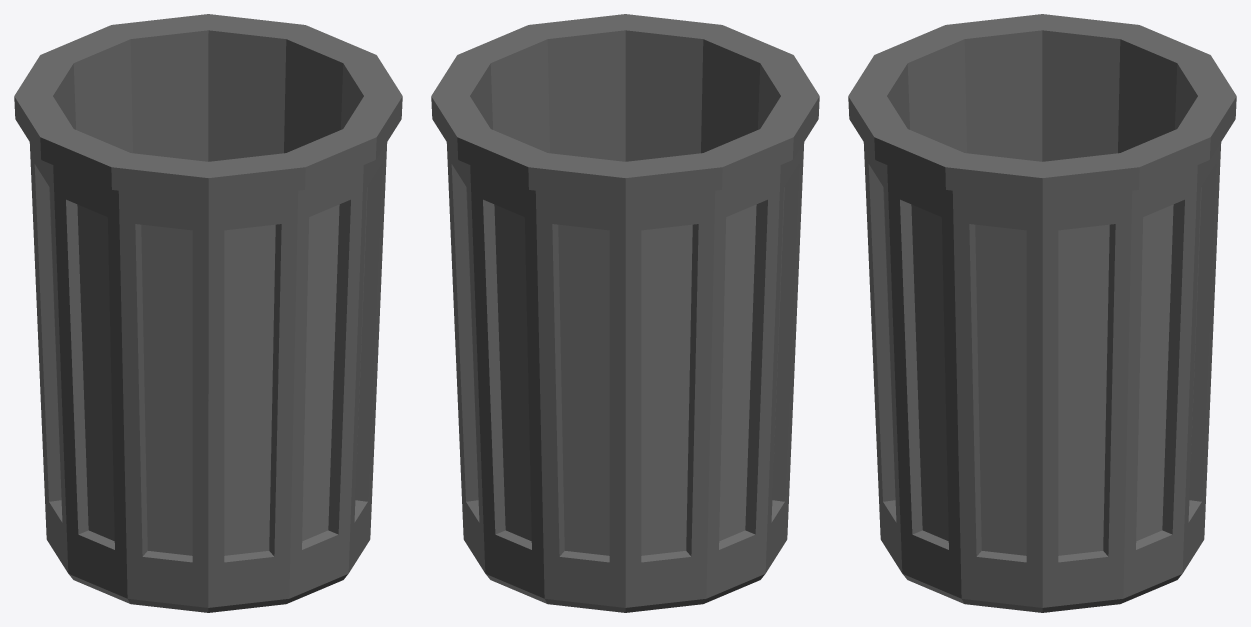
Rendered from SM_Props_Trash_04.fbx.
The picture shows the model from 3 angles, left to right: view 1: azimuth 30°, elevation 25°; view 2: azimuth 150°, elevation 25°; view 3: azimuth 270°, elevation 25°; orthographic projection.
Parts seen in each view (by area): view 1: SM_Props_Trash_04; view 2: SM_Props_Trash_04; view 3: SM_Props_Trash_04.
Boxes of the visible parts, box(x1,y1,x2,y2) form: SM_Props_Trash_04: box(14, 14, 402, 612); SM_Props_Trash_04: box(431, 14, 819, 612); SM_Props_Trash_04: box(848, 14, 1236, 612).
Bounding box in the file's own units: 0.6446 × 0.8257 × 0.6446.
